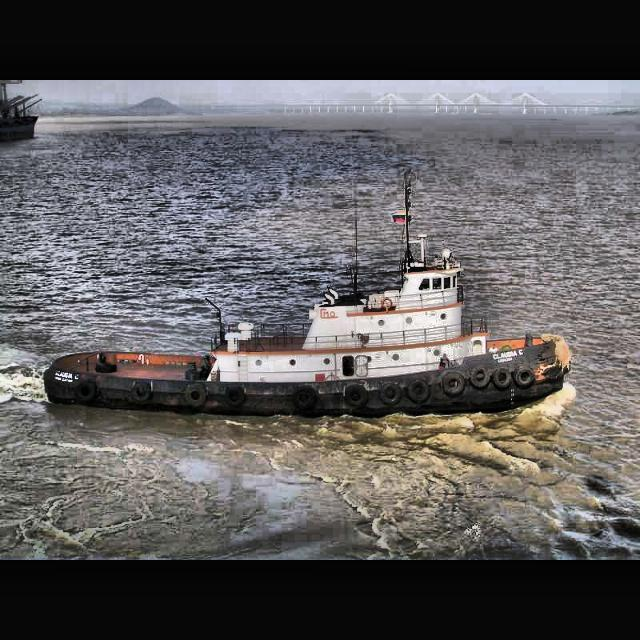tug: (42, 248, 576, 420)
